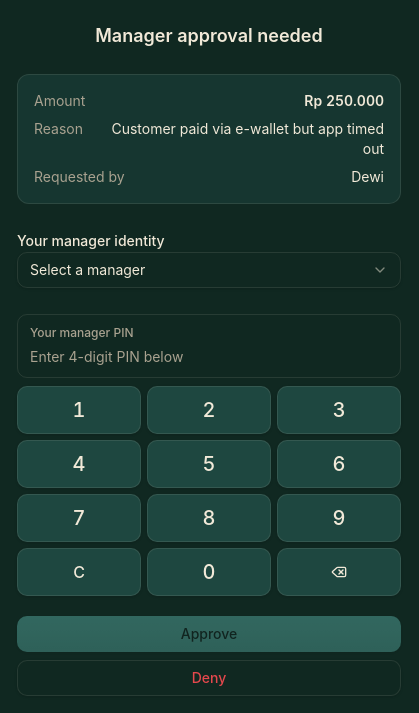
Scenario: Approve route — manual_payment_override variant › reveals deny-reason input when Deny is clicked
The image size is (419, 713).
(page scrolled)
Click the button "Deny" at (209, 678), box [17,660,401,696]
(page scrolled)
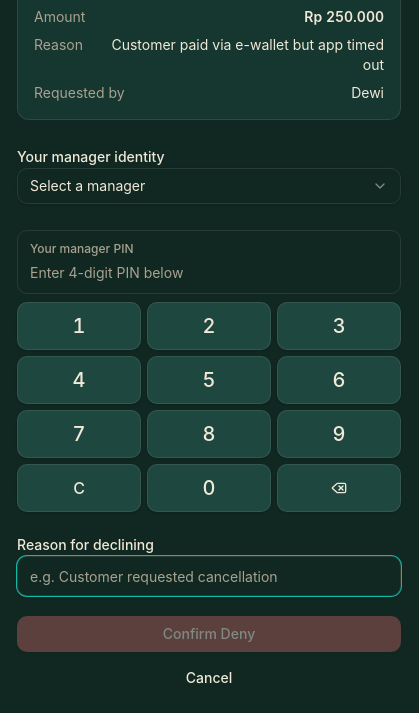
Expected: the field labelled "Reason for declining" is shown, [17,556,401,596]
Expected: the button "Confirm Deny" is shown, [17,616,401,652]
